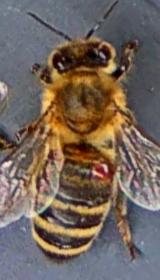varroa_mite: (83, 148, 118, 191)
